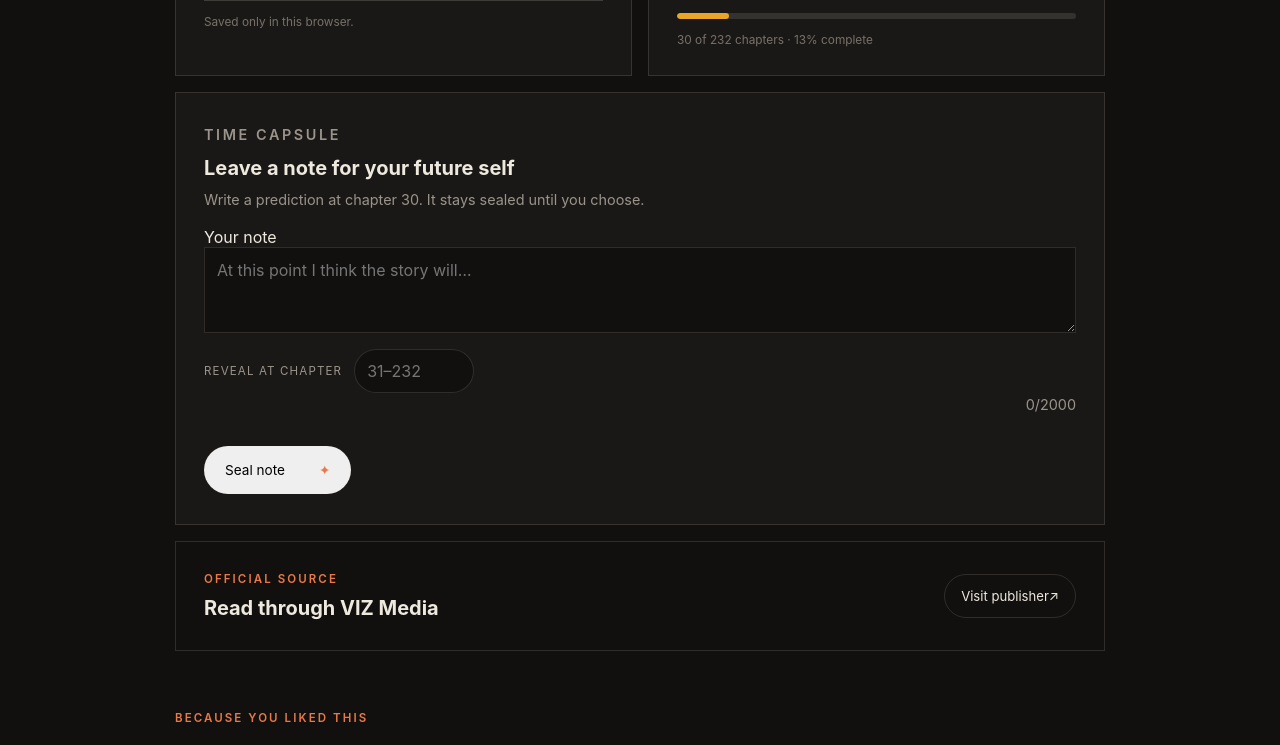
time capsule UI › shows the seal form for a saved title and rejects an unreachable unlock
(page scrolled)
Expected: the button "Seal note ✦" is shown, [204,446,351,494]
Type "30" into the number field labelled "Reveal at chapter" at (414, 371), box [354,349,474,393]
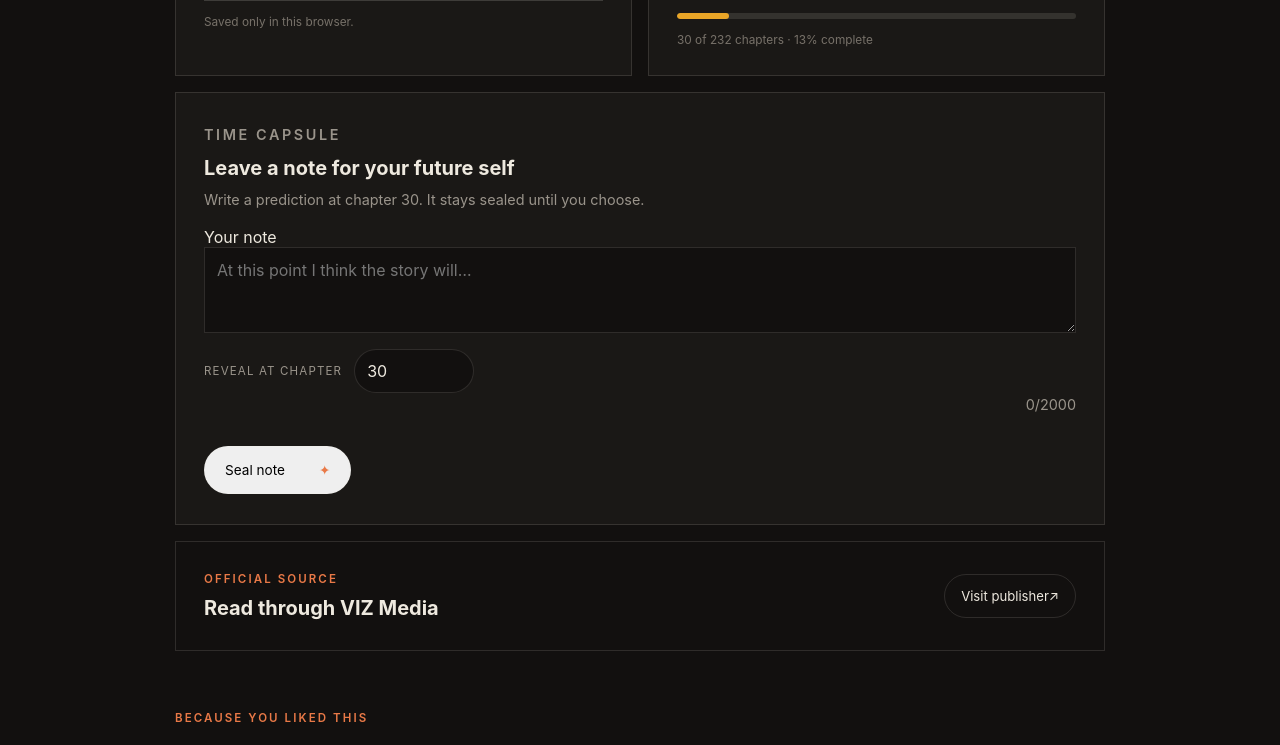
Type "It ends on a cliffhanger." into the text box labelled "Your note" at (640, 290), box [204,247,1076,333]
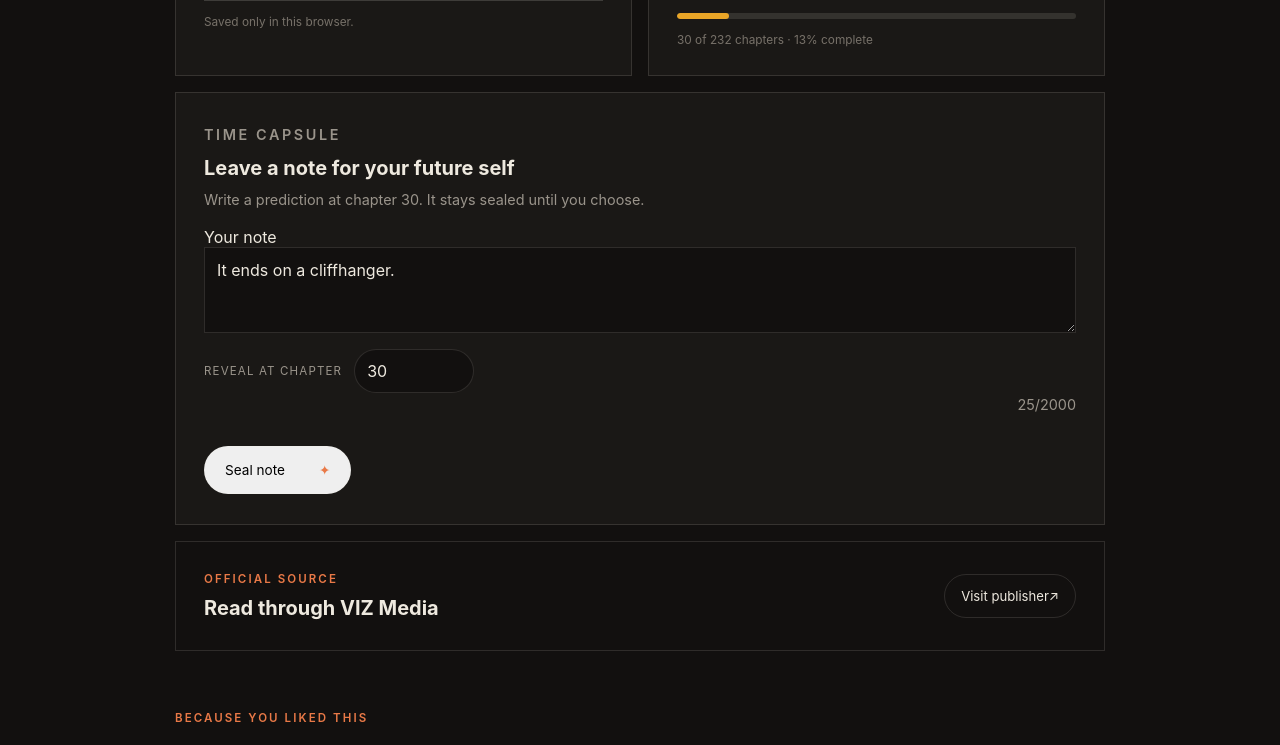
Submit the form named "Seal note", box [175,92,1105,525]
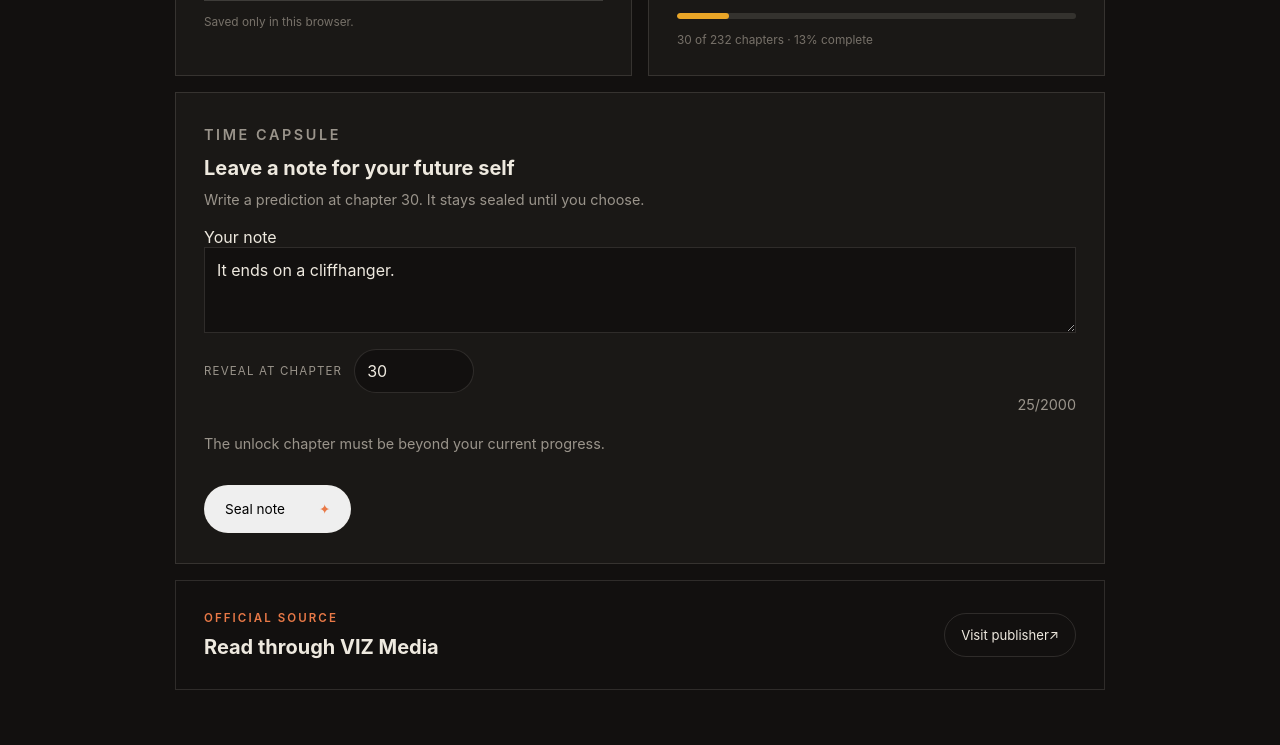
Expected: the message shows "beyond your current progress", [204,435,605,452]
